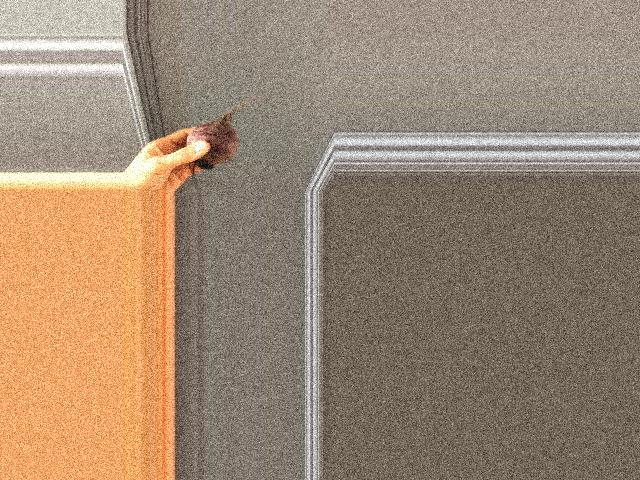beet: (187, 98, 266, 192)
